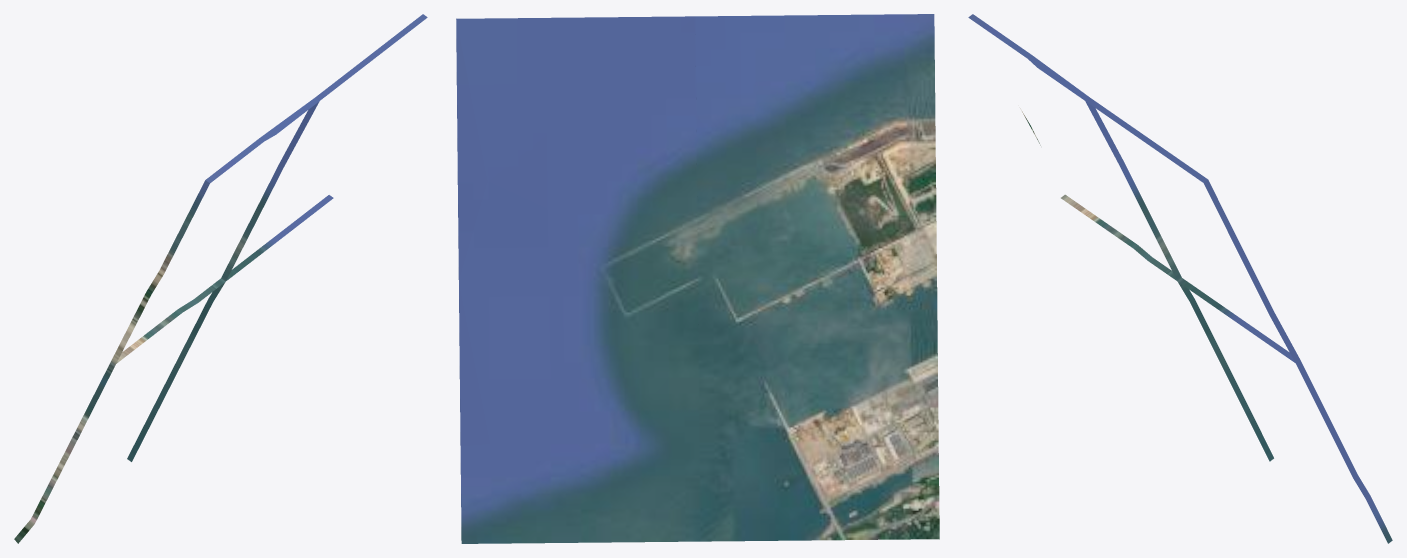
The picture shows the model from 3 angles, left to right: view 1: azimuth 30°, elevation 25°; view 2: azimuth 150°, elevation 25°; view 3: azimuth 270°, elevation 25°; orthographic projection. The views are drawn at different scales.
Bounding box in the file's own units: 4944 × 4431 × 4141.
1 material, 1 textured.
